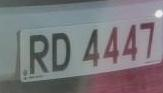4: (80, 24, 103, 74), (121, 21, 142, 69), (102, 22, 122, 70)
7: (138, 18, 159, 66)
D: (49, 29, 74, 76)
R: (26, 31, 51, 78)
